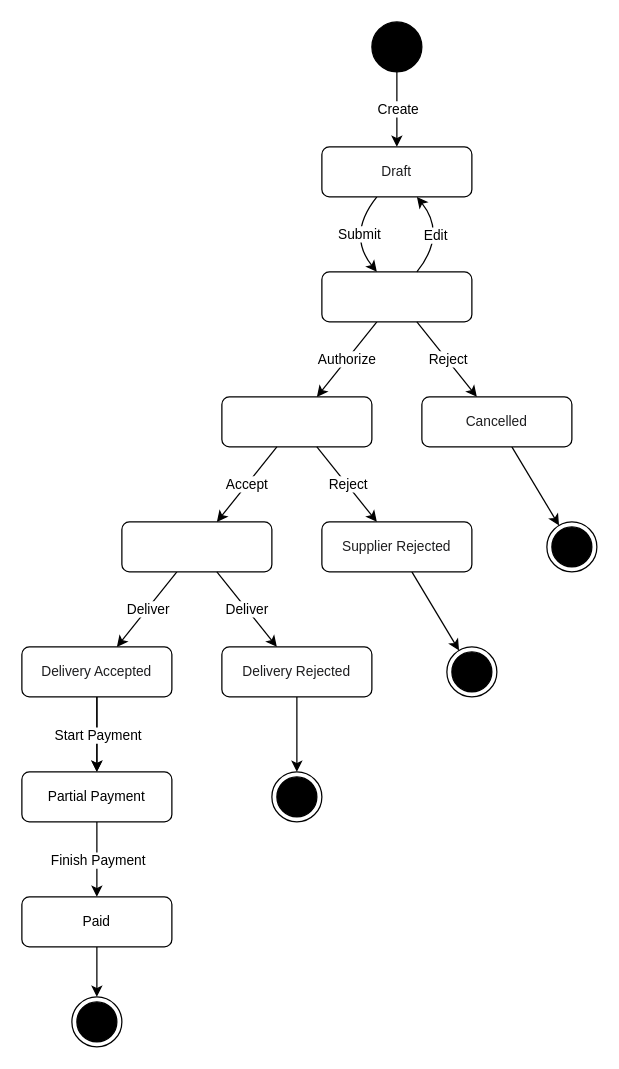
This 619x1069 diagram has some shape labels left out. The shapes that lost their labels are listed below. From the top down, each one's centre as x and y in pixels, then its label:
At (396,296): "Submitted to Supplier".
At (296,421): "Awaiting Supplier Response".
At (196,546): "Supplier Confirmed".
